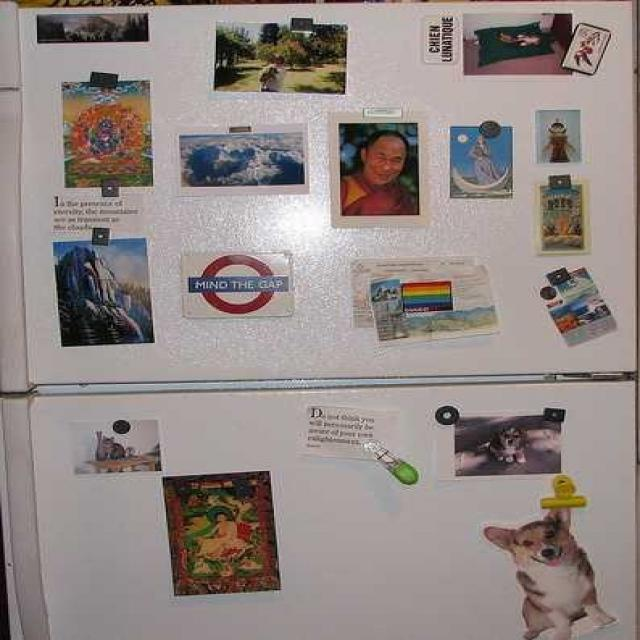refrigerator: (17, 6, 640, 639)
